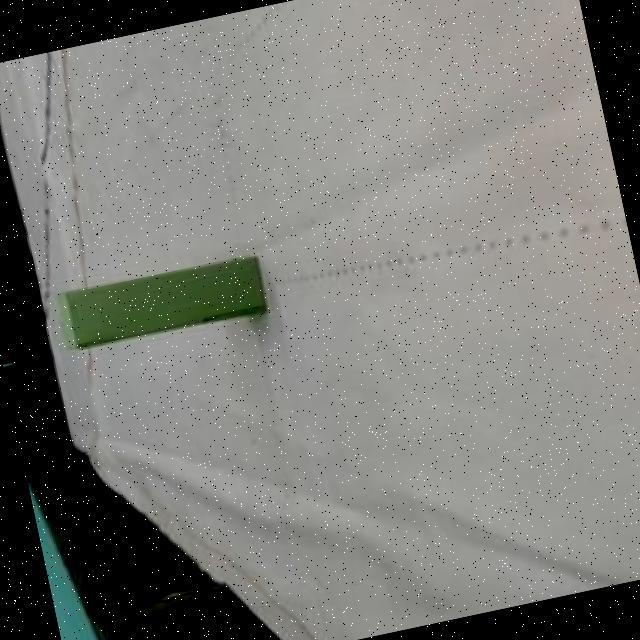greenbox: (51, 244, 269, 358)
